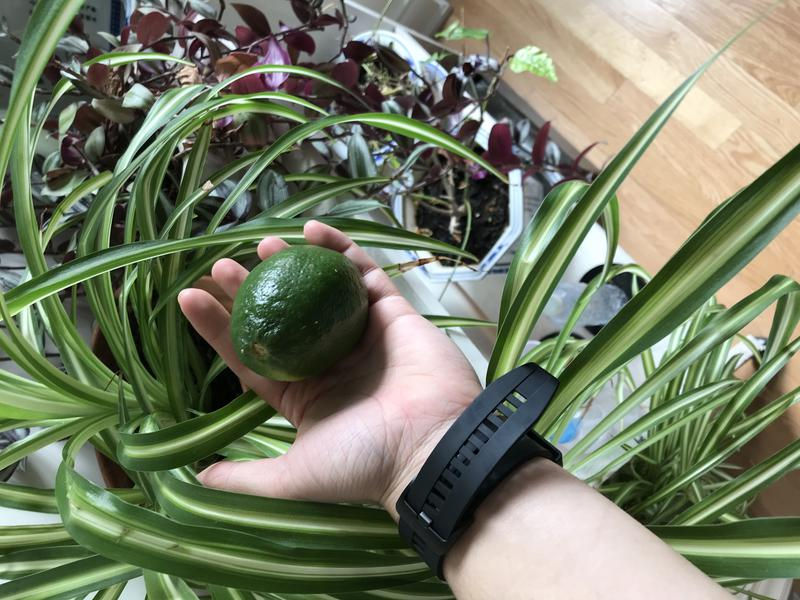lime: (225, 244, 386, 384)
